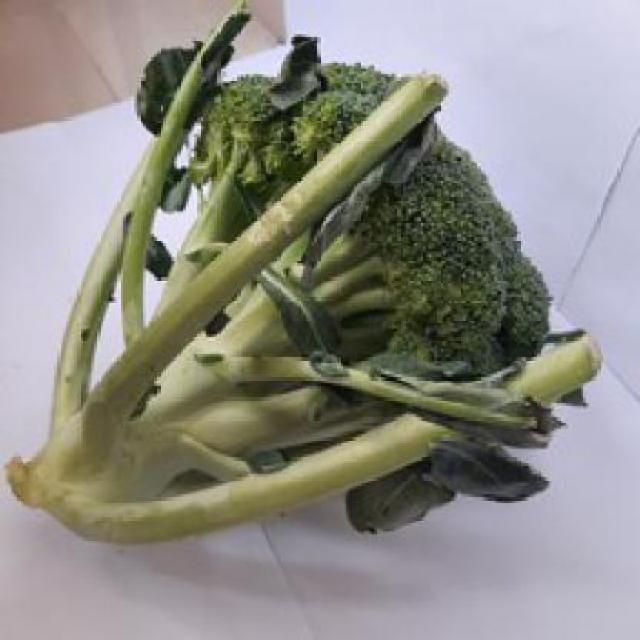broccoli: (14, 66, 580, 534)
